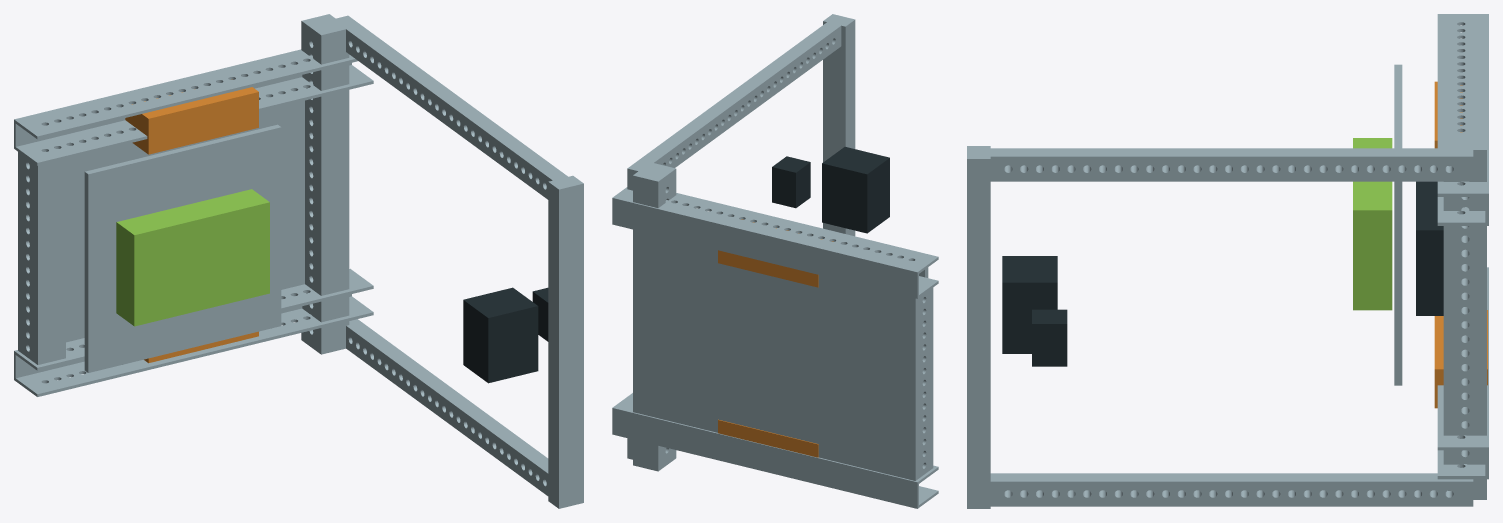
The model's file is M01-chassis.obj.
3 renders of one model, left to right at view 1: azimuth 30°, elevation 25°; view 2: azimuth 150°, elevation 25°; view 3: azimuth 270°, elevation 25°, orthographic. The views are drawn at different scales.
Visible parts, largest first — view 1: Electronics_deck, MATRIX_controller_envelope, Front_cross_member, Left_chassis_channel, Mast_header, Lower_tray, Rear_cross_member, Left_lift_guide, Right_lift_guide, Right_chassis_channel, Lift_servo_envelope, Left_TT_motor_envelope (+1 smaller); view 2: Lower_tray, Left_chassis_channel, Right_chassis_channel, Rear_cross_member, Front_cross_member, Left_lift_guide, Lift_servo_envelope, Mast_header, Camera_envelope, Right_TT_motor_envelope, Left_TT_motor_envelope; view 3: Left_lift_guide, Right_lift_guide, Front_cross_member, Mast_header, Left_chassis_channel, MATRIX_controller_envelope, Lift_servo_envelope, Battery_envelope, Electronics_deck, Right_chassis_channel, Camera_envelope, Right_TT_motor_envelope.
Part boxes in pixels (left/top/right/bottom): Electronics_deck: left=84, top=124, right=281, bottom=372; MATRIX_controller_envelope: left=116, top=189, right=269, bottom=326; Front_cross_member: left=301, top=14, right=349, bottom=354; Left_chassis_channel: left=14, top=49, right=373, bottom=165; Mast_header: left=548, top=175, right=583, bottom=508; Lower_tray: left=57, top=91, right=304, bottom=342; Rear_cross_member: left=18, top=151, right=65, bottom=364; Left_lift_guide: left=333, top=15, right=570, bottom=199; Right_lift_guide: left=346, top=319, right=548, bottom=495; Right_chassis_channel: left=14, top=268, right=373, bottom=396; Lift_servo_envelope: left=463, top=287, right=538, bottom=383; Left_TT_motor_envelope: left=125, top=79, right=258, bottom=154; Lower_tray: left=655, top=235, right=892, bottom=475; Left_chassis_channel: left=612, top=187, right=938, bottom=298; Right_chassis_channel: left=612, top=393, right=938, bottom=508; Rear_cross_member: left=890, top=288, right=933, bottom=480; Front_cross_member: left=633, top=162, right=676, bottom=471; Left_lift_guide: left=627, top=20, right=843, bottom=190; Lift_servo_envelope: left=822, top=146, right=889, bottom=233; Mast_header: left=823, top=14, right=855, bottom=236; Camera_envelope: left=772, top=156, right=810, bottom=208; Right_TT_motor_envelope: left=718, top=419, right=818, bottom=457; Left_TT_motor_envelope: left=718, top=219, right=833, bottom=287; Left_lift_guide: left=984, top=148, right=1473, bottom=181; Right_lift_guide: left=990, top=473, right=1473, bottom=506; Front_cross_member: left=1443, top=135, right=1486, bottom=499; Mast_header: left=967, top=146, right=990, bottom=508; Left_chassis_channel: left=1437, top=14, right=1488, bottom=225; MATRIX_controller_envelope: left=1353, top=138, right=1392, bottom=310; Lift_servo_envelope: left=1002, top=256, right=1057, bottom=353; Battery_envelope: left=1416, top=181, right=1443, bottom=315; Electronics_deck: left=1394, top=64, right=1402, bottom=385; Right_chassis_channel: left=1437, top=267, right=1488, bottom=479; Camera_envelope: left=1032, top=309, right=1067, bottom=366; Right_TT_motor_envelope: left=1434, top=310, right=1487, bottom=408.
Size of the model in its own units: 0.2265 by 0.196 by 0.265.
